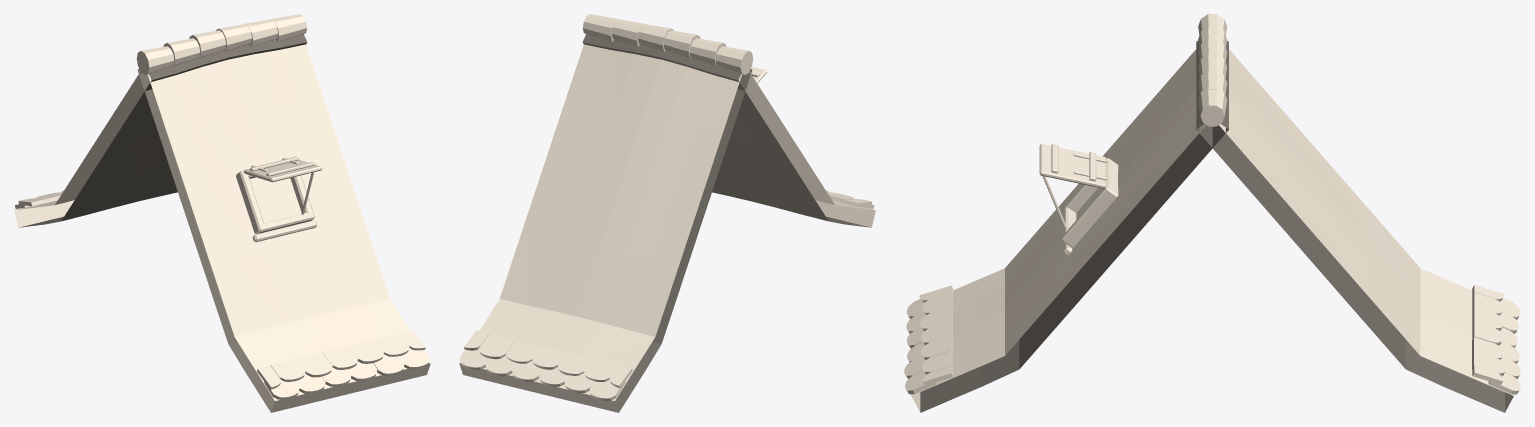
File: SM_VK_Roof_Mid_Hatch.fbx
3 renders of one model, left to right at view 1: azimuth 30°, elevation 25°; view 2: azimuth 150°, elevation 25°; view 3: azimuth 270°, elevation 25°, orthographic. The views are drawn at different scales.
Parts seen in each view (by area): view 1: SM_VK_Roof_Mid_Hatch.001; view 2: SM_VK_Roof_Mid_Hatch.001; view 3: SM_VK_Roof_Mid_Hatch.001.
Part boxes in pixels (x1,y1,x2,y2): SM_VK_Roof_Mid_Hatch.001: [14, 14, 430, 412]; SM_VK_Roof_Mid_Hatch.001: [459, 14, 875, 412]; SM_VK_Roof_Mid_Hatch.001: [904, 14, 1520, 412].
Bounding box in the file's own units: 3.06 × 5 × 8.9.
